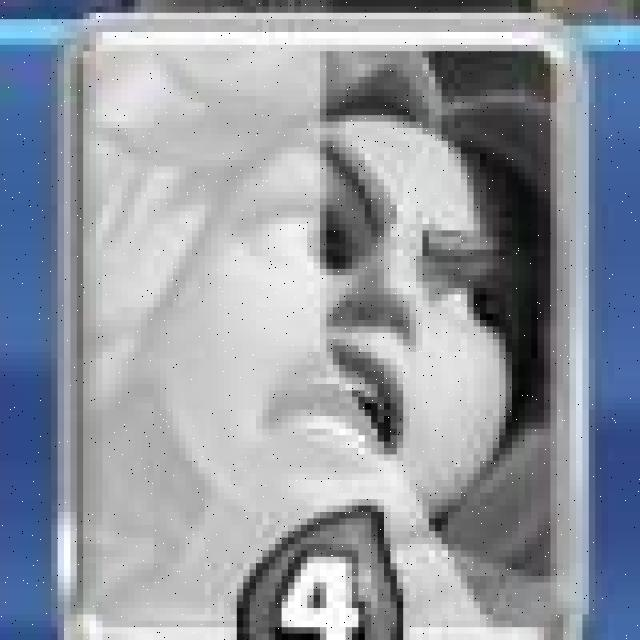Valkyrie: (59, 25, 596, 640)
